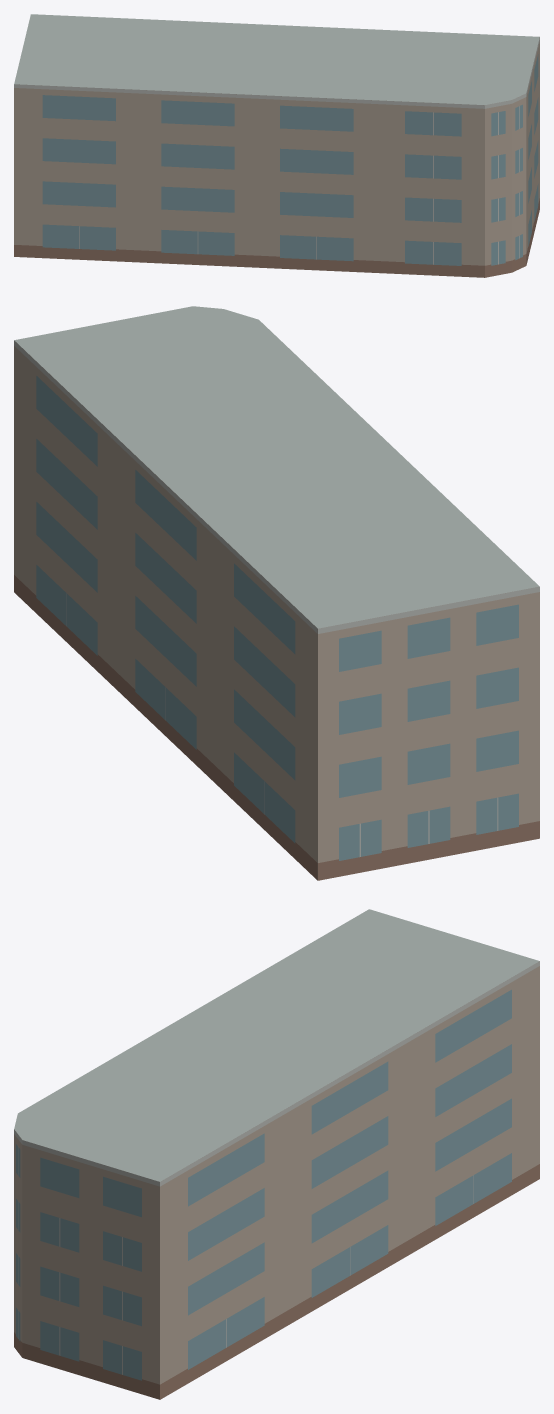
Rendered from survey-upis-32621456.glb.
3 views of the same model, one above another, from view 1: azimuth 30°, elevation 25°; view 2: azimuth 150°, elevation 25°; view 3: azimuth 270°, elevation 25° (orthographic). The views are drawn at different scales.
Visible parts, largest first — view 1: survey-upis-32621456.tmp; view 2: survey-upis-32621456.tmp; view 3: survey-upis-32621456.tmp.
Part boxes in pixels (x1,y1,x2,y2): survey-upis-32621456.tmp: (14, 14, 539, 277); survey-upis-32621456.tmp: (14, 306, 539, 880); survey-upis-32621456.tmp: (14, 909, 539, 1399).
Bounding box in the file's own units: 30.35 × 11.3 × 24.72.
